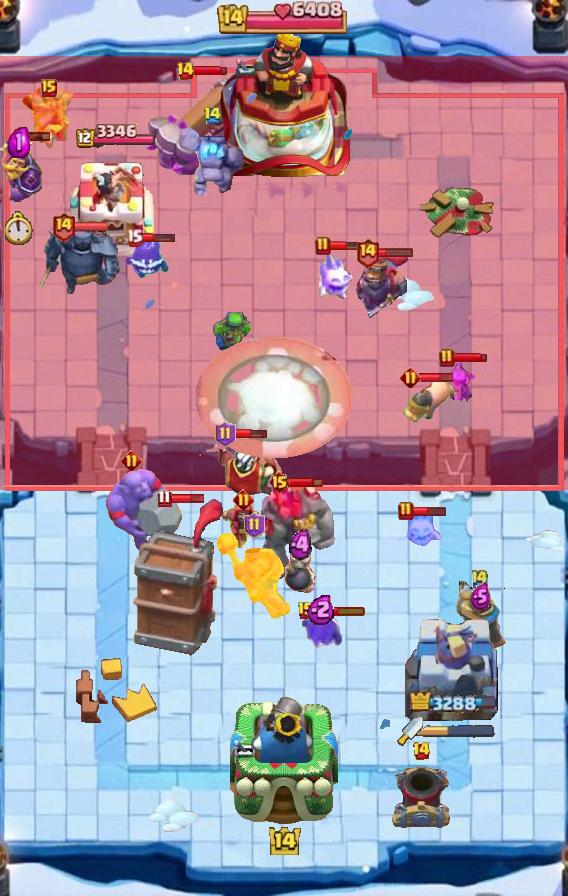archer-queen: (102, 466, 184, 554)
bar: (405, 611, 501, 731)
bat: (398, 508, 443, 550)
bowler: (217, 498, 269, 554)
cannoneer-tower: (253, 480, 335, 582)
clock: (217, 0, 351, 34)
dart-goblin: (132, 498, 223, 656)
electro-spirit: (307, 593, 336, 625), (288, 529, 312, 561), (8, 126, 30, 157), (469, 583, 490, 610)
elixir: (5, 211, 34, 245)
elixir-golem-big: (351, 251, 411, 321)
emote: (314, 605, 367, 617), (377, 246, 414, 258), (192, 65, 228, 77), (140, 232, 176, 244), (452, 352, 488, 364), (419, 372, 454, 384), (233, 428, 268, 440), (288, 476, 323, 488), (412, 505, 447, 517), (73, 220, 109, 231), (328, 241, 364, 252), (170, 493, 206, 504), (16, 131, 51, 142)
evolution-symbol: (435, 357, 477, 405)
executioner: (400, 375, 454, 425)
firecracker: (453, 581, 506, 651)
firecracker-evolution: (0, 136, 44, 204)
freeze: (214, 533, 294, 627)
furnace: (145, 73, 251, 179)
giant-snowball: (209, 312, 251, 352)
goblin-barrel: (20, 87, 78, 149)
golemite: (35, 222, 125, 298)
ice-golem: (282, 540, 318, 598)
king-tower: (218, 27, 350, 181), (230, 692, 338, 826)
king-tower-bar: (423, 724, 495, 738)
mirror: (316, 250, 356, 302)
musketeer: (390, 764, 452, 832)
queen-tower: (70, 154, 158, 256)
selected: (73, 124, 155, 150), (411, 692, 498, 715)
skeleton-king: (192, 433, 288, 501)
spear-goblin: (121, 234, 173, 278), (300, 611, 342, 651)
text: (51, 210, 76, 241), (355, 237, 380, 267), (269, 470, 292, 494), (215, 421, 236, 447), (243, 512, 264, 538), (399, 367, 421, 389), (121, 449, 142, 471), (233, 490, 254, 511), (470, 567, 490, 588), (177, 61, 196, 81), (413, 741, 432, 761), (202, 106, 221, 125), (297, 601, 315, 621), (315, 236, 331, 256), (439, 348, 455, 368), (398, 501, 414, 521), (125, 229, 142, 247), (41, 79, 57, 97), (156, 489, 171, 508)
valkyrie-evolution: (179, 125, 245, 197)
wall-breaker: (195, 336, 352, 459)
